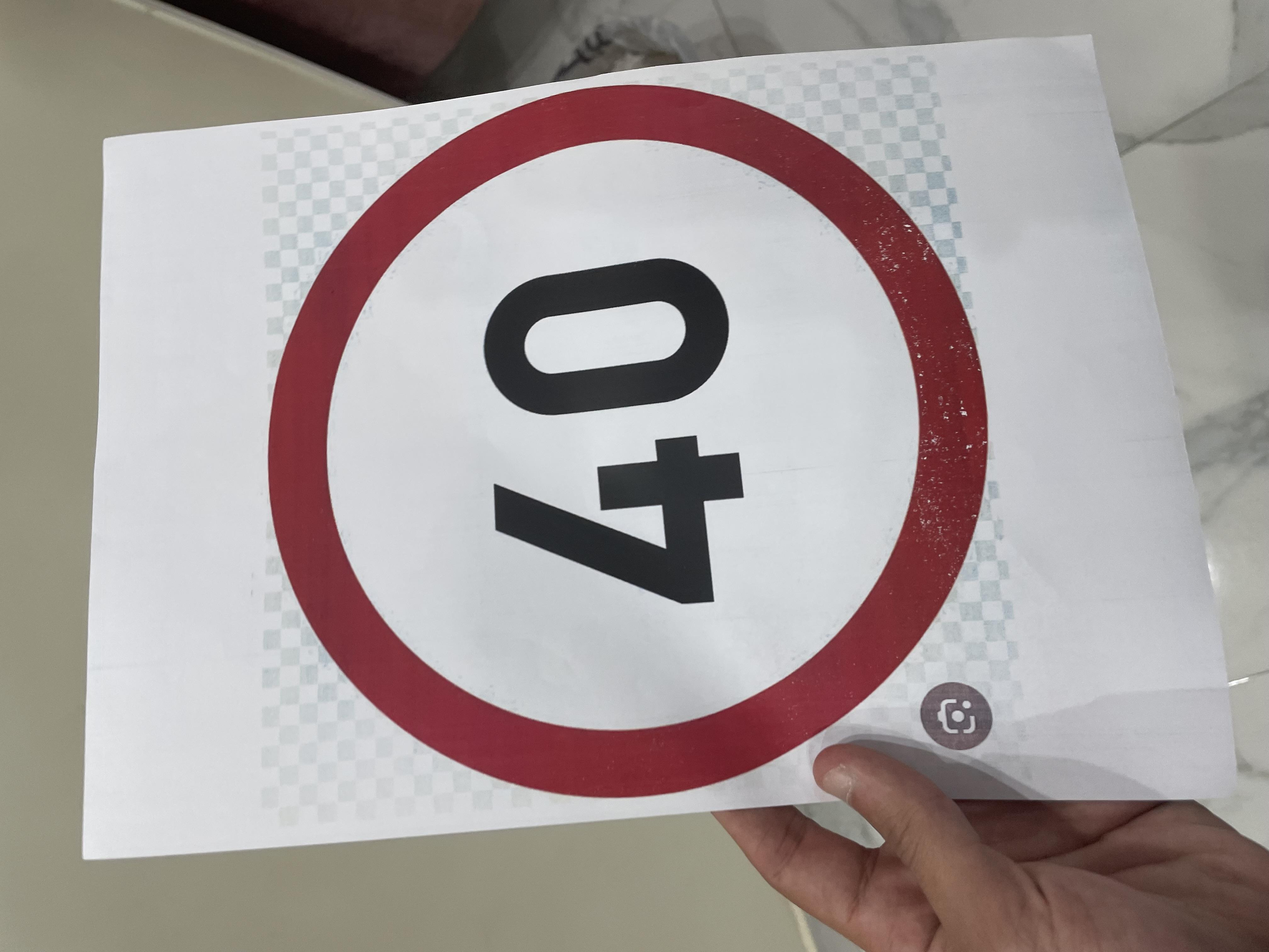40-Speed: (194, 196, 1180, 747)
